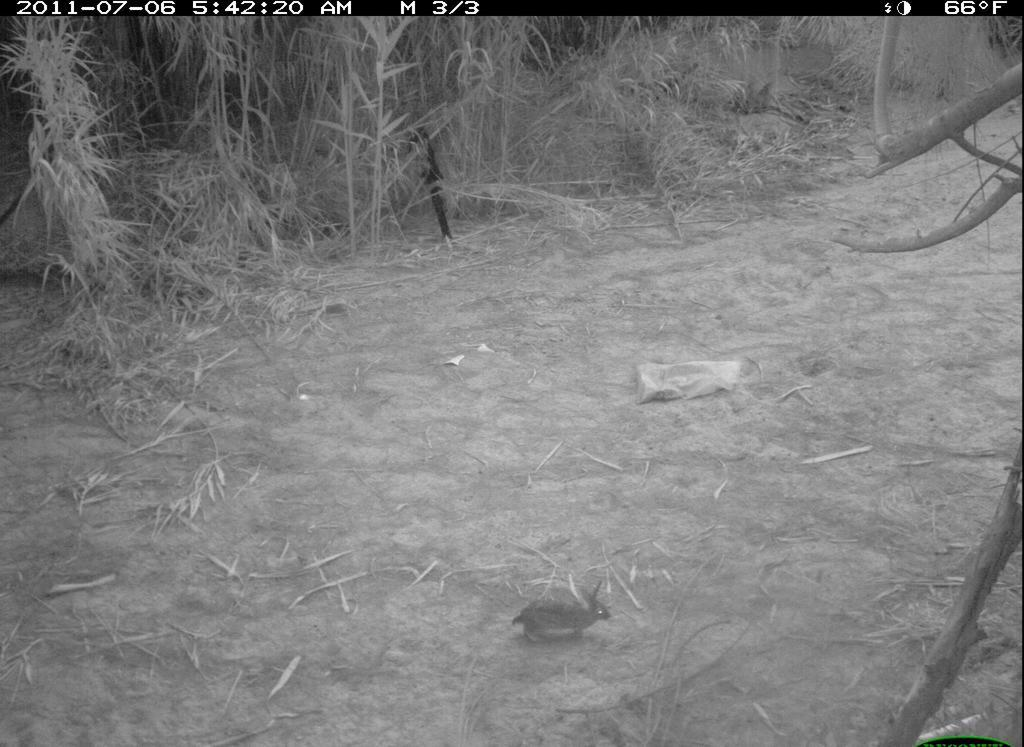rabbit: (505, 577, 617, 656)
